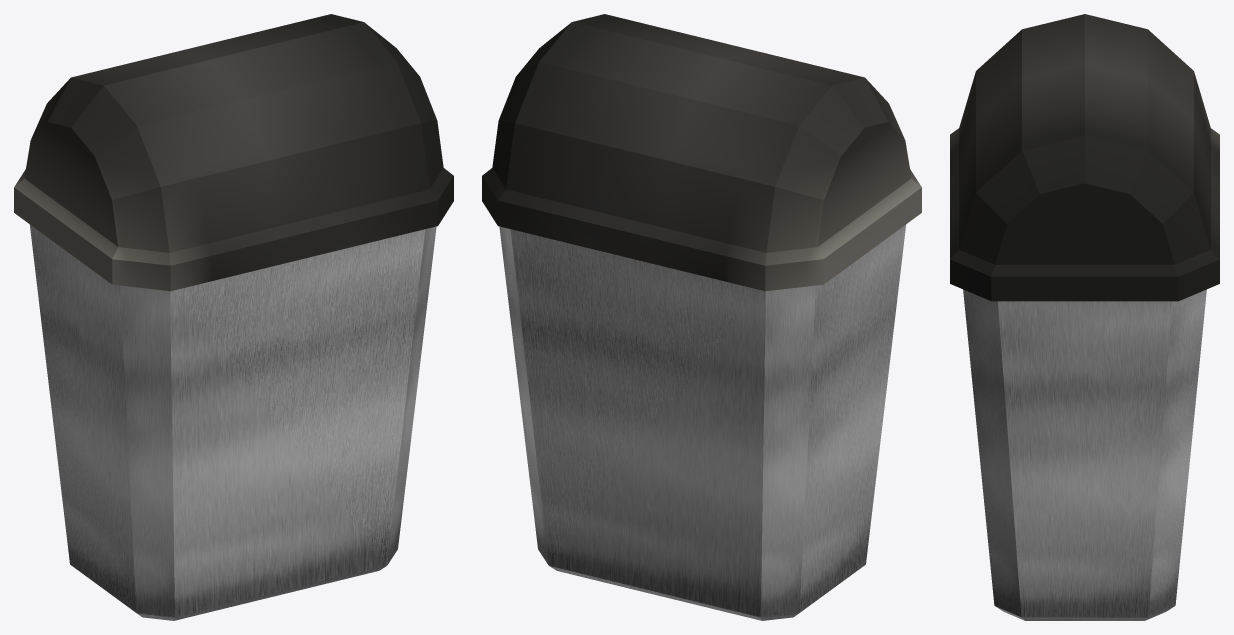
File: lixo.glb
3 renders of one model, left to right at view 1: azimuth 30°, elevation 25°; view 2: azimuth 150°, elevation 25°; view 3: azimuth 270°, elevation 25°, orthographic. The views are drawn at different scales.
Visible parts, largest first — view 1: object1, object2; view 2: object1, object2; view 3: object2, object1.
Boxes of the visible parts, x1,y1,x2,y2 form: object1: (29, 224, 436, 620); object2: (14, 14, 453, 291); object1: (499, 224, 906, 620); object2: (482, 14, 921, 291); object2: (950, 14, 1219, 301); object1: (963, 289, 1206, 620).
Size of the model in its own units: 0.525 by 0.75 by 0.375.
Materials: 2 (2 with a texture image).
